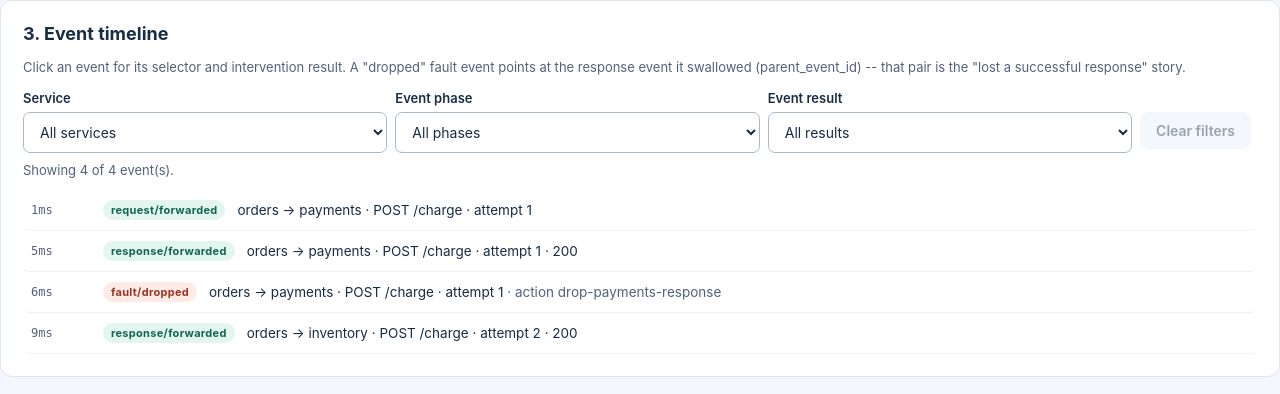
<EventTimeline/> › filters by service and tells when nothing matches
The width and height of the screenshot is (1280, 394).
Select "inventory" in the dropdown labelled "Service" at (205, 132), box [23,112,387,152]
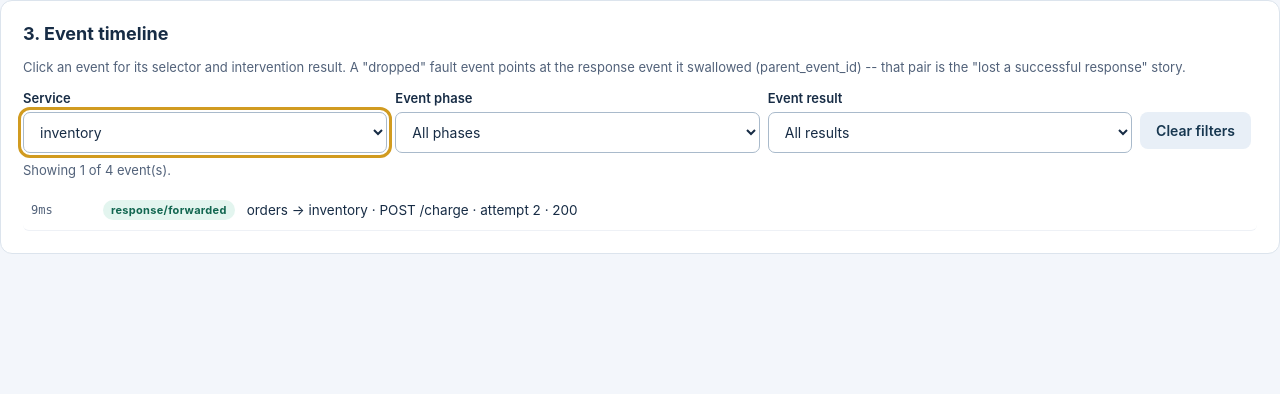
Now the text "Showing 1 of 4 event(s)." is shown, box [23,162,171,178]
Select "fault" in the dropdown labelled "Event phase" at (578, 132), box [395,112,760,152]
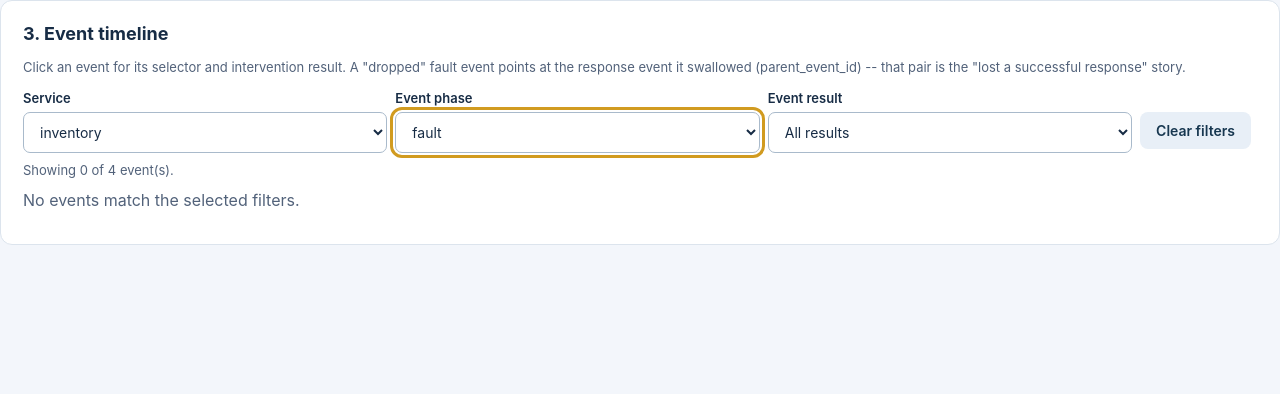
Now the text "No events match the selected filters." is shown, box [23,190,300,210]
